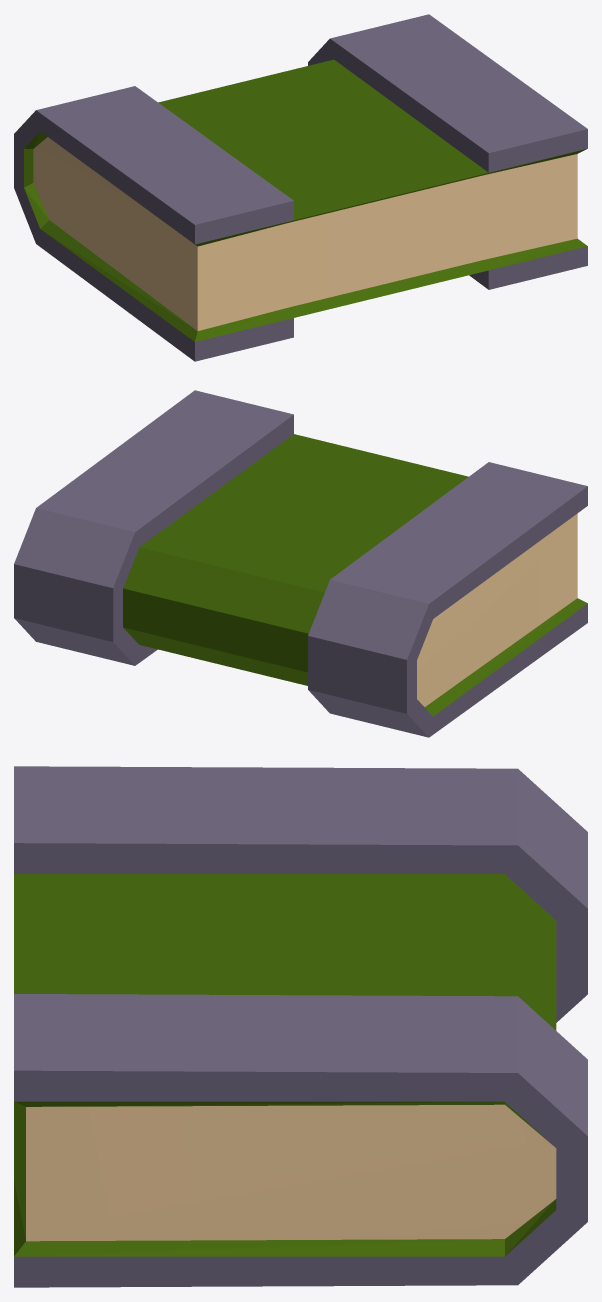
File: Book4.FBX
3 renders of one model, top to bottom at view 1: azimuth 30°, elevation 25°; view 2: azimuth 150°, elevation 25°; view 3: azimuth 270°, elevation 25°, orthographic. The views are drawn at different scales.
Parts seen in each view (by area): view 1: Book4; view 2: Book4; view 3: Book4.
Boxes of the visible parts, <box> form: Book4: <box>14,14,587,361</box>; Book4: <box>14,390,587,737</box>; Book4: <box>14,766,587,1287</box>.
Bounding box in the file's own units: 0.4206 × 0.1398 × 0.3353.
